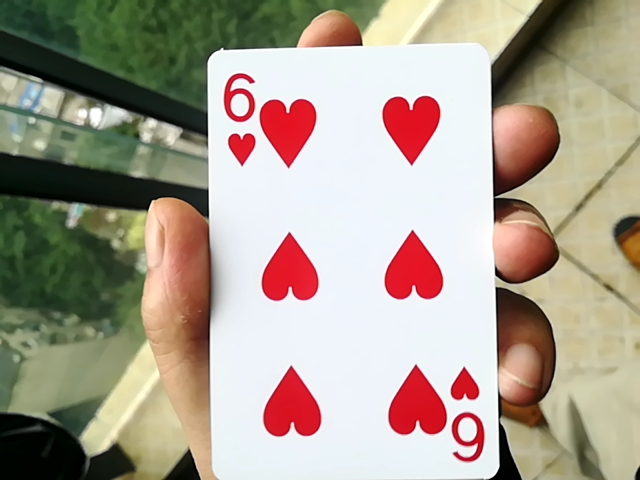hx 6: (193, 44, 515, 477)
